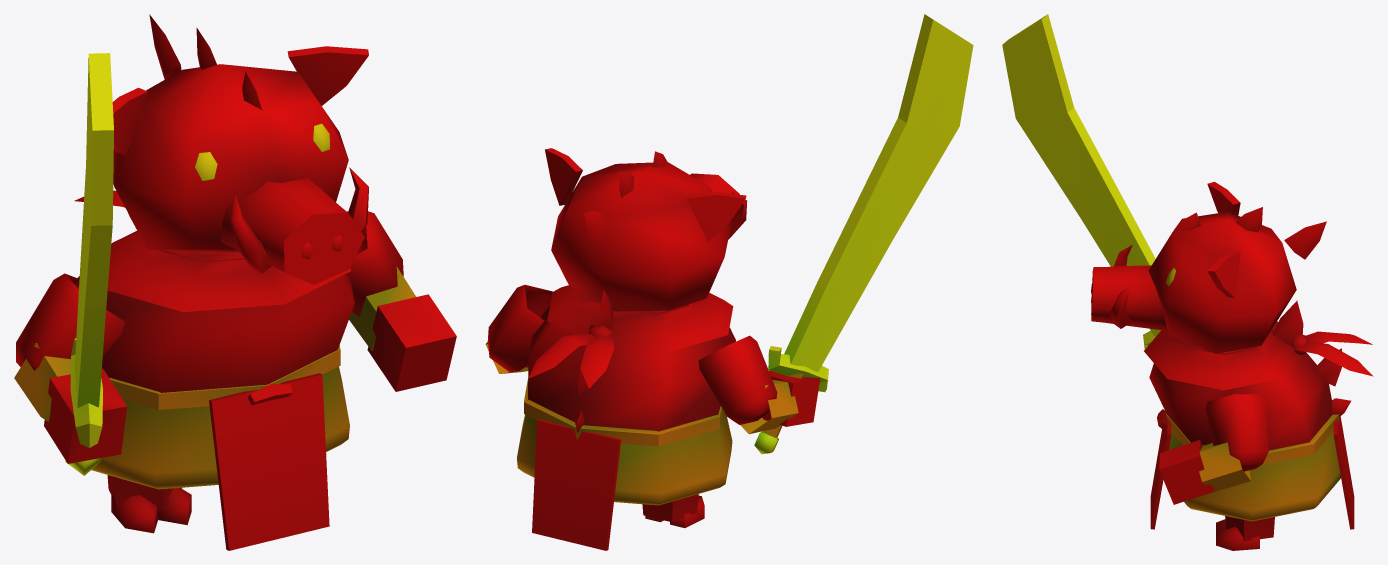
File: BeastmanRaider_LOD1.glb
3 renders of one model, left to right at view 1: azimuth 30°, elevation 25°; view 2: azimuth 150°, elevation 25°; view 3: azimuth 270°, elevation 25°, orthographic. The views are drawn at different scales.
Visible parts, largest first — view 1: BeastmanRaider_LOD1; view 2: BeastmanRaider_LOD1; view 3: BeastmanRaider_LOD1.
Boxes of the visible parts, x1,y1,x2,y2 form: BeastmanRaider_LOD1: (14,14,456,550); BeastmanRaider_LOD1: (485,14,973,550); BeastmanRaider_LOD1: (1002,14,1373,550).
Bounding box in the file's own units: 0.7571 × 0.9217 × 0.7379.
